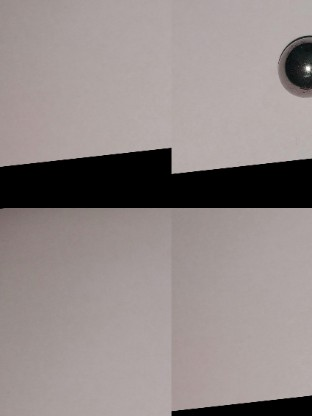ironball: (273, 31, 312, 101)
